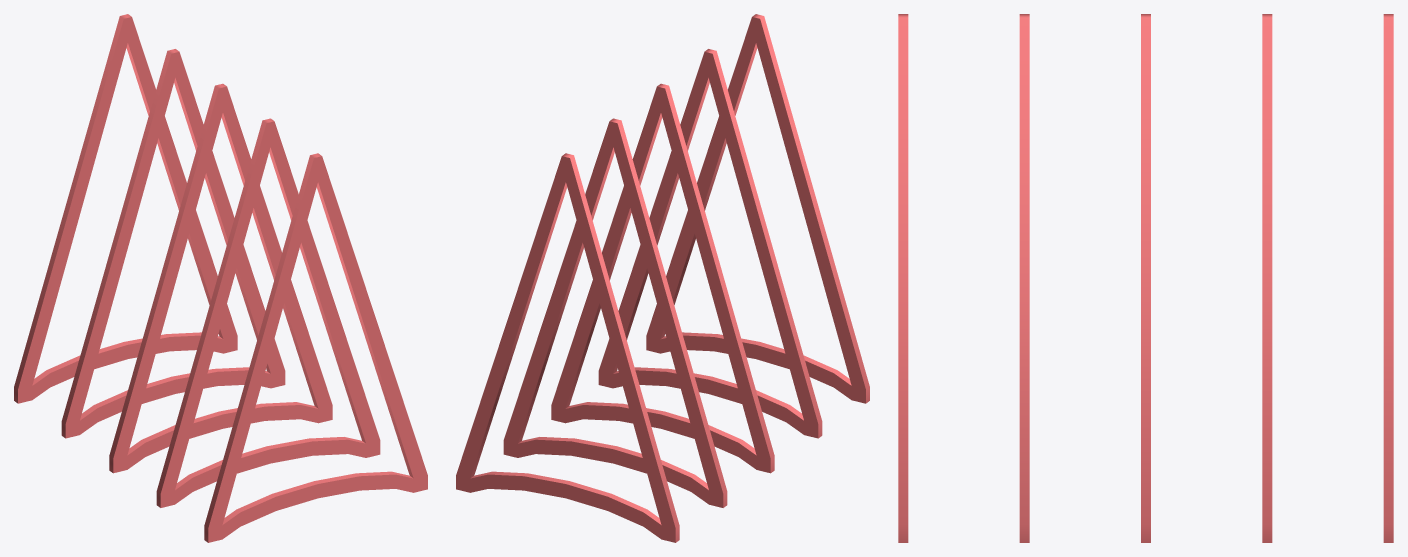
Rendered from building_ceilingbrace.FBX.
The picture shows the model from 3 angles, left to right: view 1: azimuth 30°, elevation 25°; view 2: azimuth 150°, elevation 25°; view 3: azimuth 270°, elevation 25°; orthographic projection. The views are drawn at different scales.
Visible parts, largest first — view 1: level_building_ceiling_brace; view 2: level_building_ceiling_brace; view 3: level_building_ceiling_brace.
Part boxes in pixels (x1,y1,x2,y2): level_building_ceiling_brace: (14, 14, 427, 542); level_building_ceiling_brace: (456, 14, 869, 542); level_building_ceiling_brace: (898, 14, 1393, 542).
Bounding box in the file's own units: 315 × 482 × 492.
